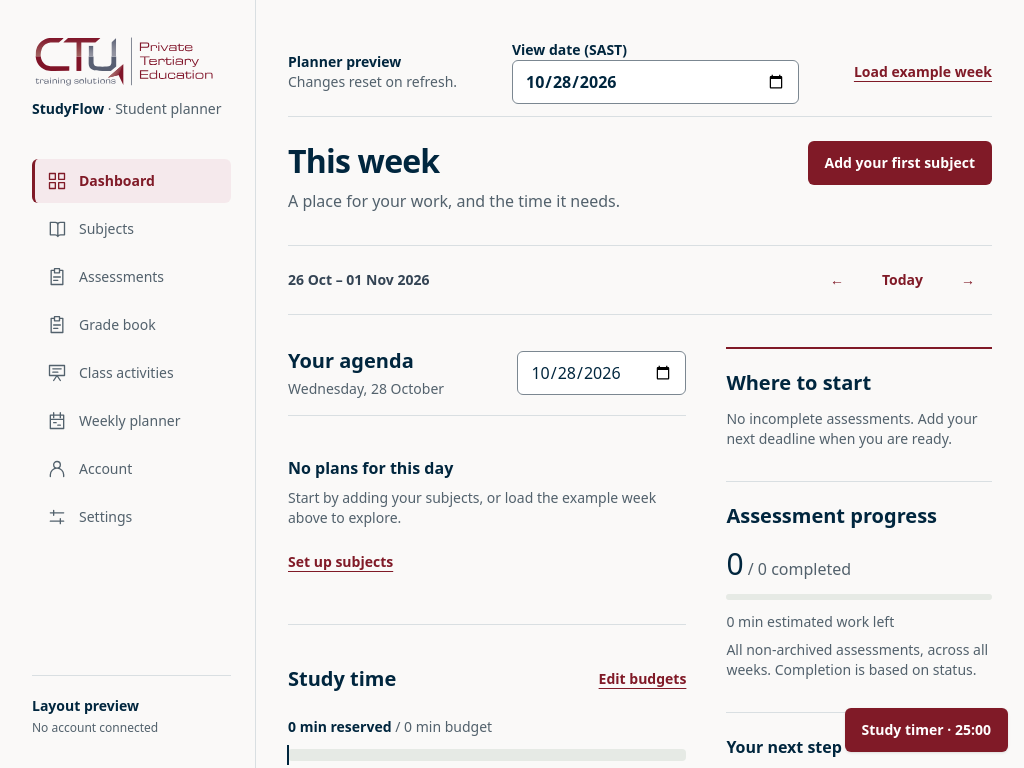
Test: shared starter navigation › navigates to an honestly labelled feature workspace
Click the link "Assessments" at (106, 277), box [47,267,164,287]
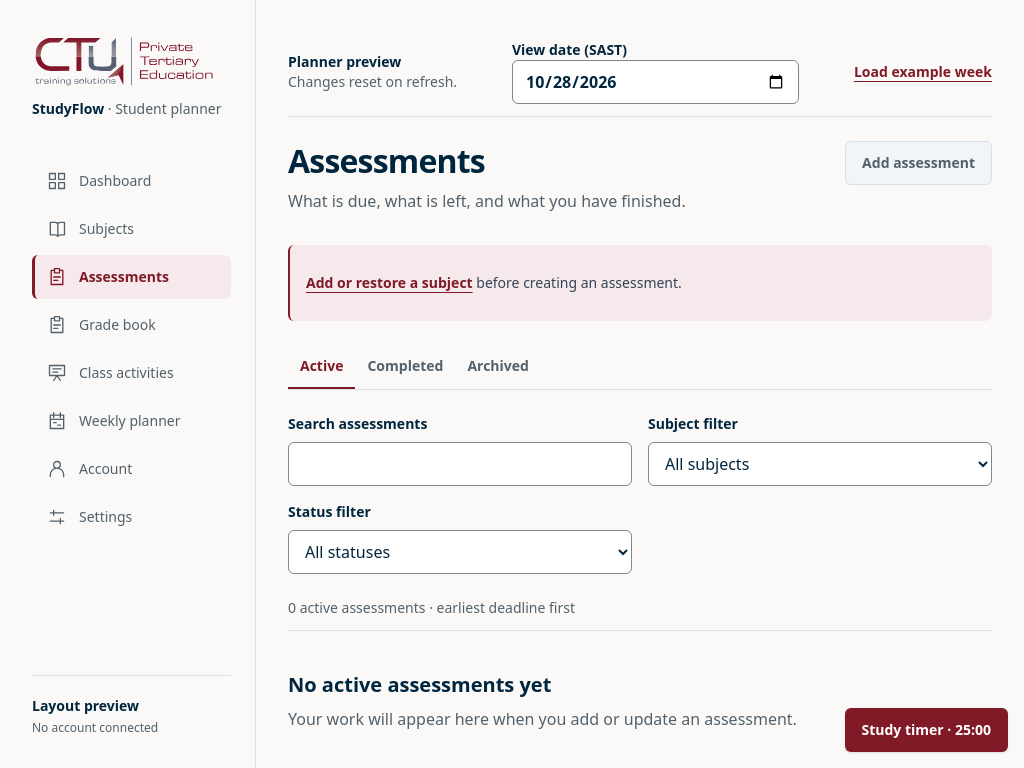
Check: the heading "Assessments" is shown, box [288,139,485,182]
Check: the button "Add assessment" is disabled, box [845,141,992,185]
